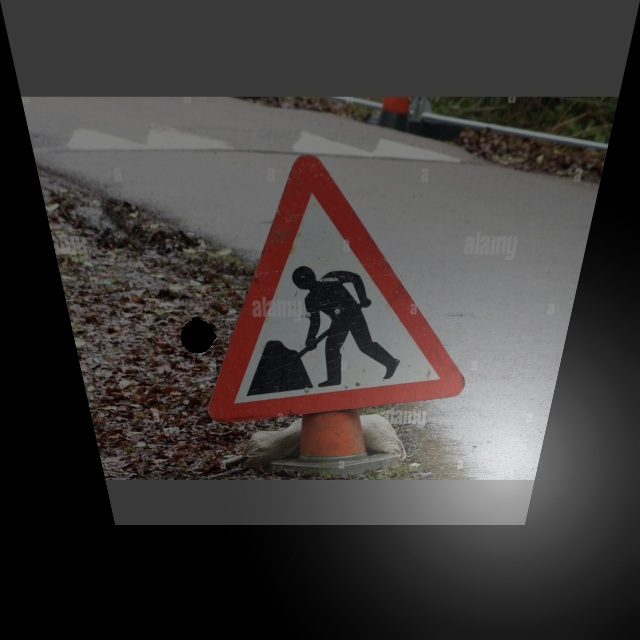Men_at_Work: (184, 159, 506, 416)
